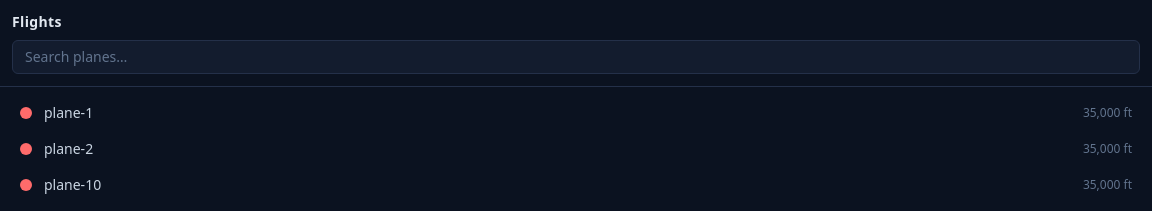
Test case: PlaneList › shows a message when nothing matches
Type "zzz" into the search field labelled "Search planes".
click(576, 57); type("zzz")  # box x1=12 y1=40 x2=1140 y2=74
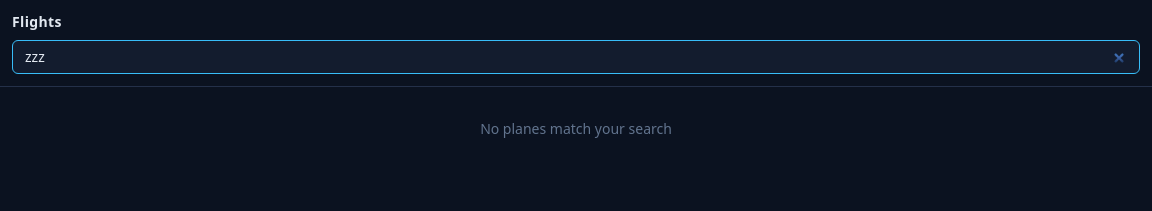
Check: the list item "No planes match your search" is shown, box x1=480 y1=119 x2=672 y2=138
